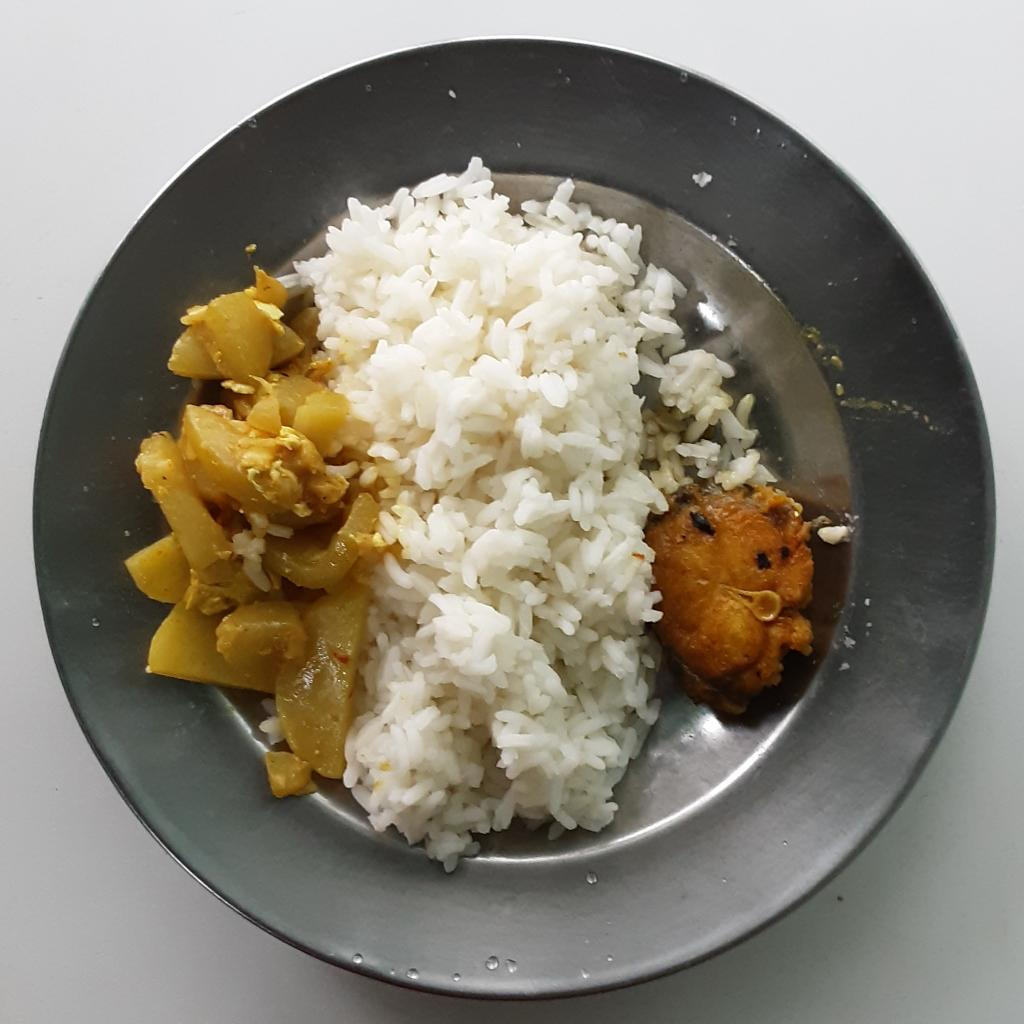fish: (640, 483, 813, 699)
papaya: (121, 267, 382, 802)
rice: (277, 157, 778, 872)
